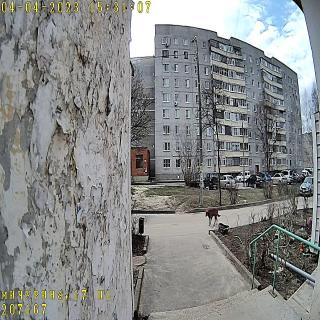dog: (205, 208, 221, 226)
